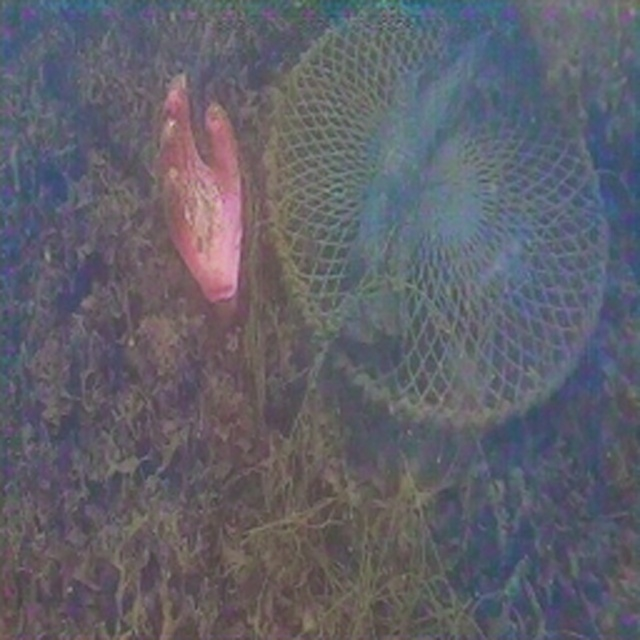mine: (263, 0, 609, 429)
